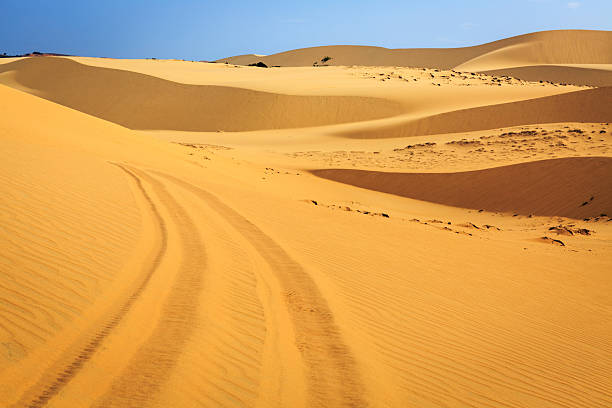vehicle_track: (154, 171, 366, 406), (15, 163, 166, 407), (93, 167, 206, 407)
